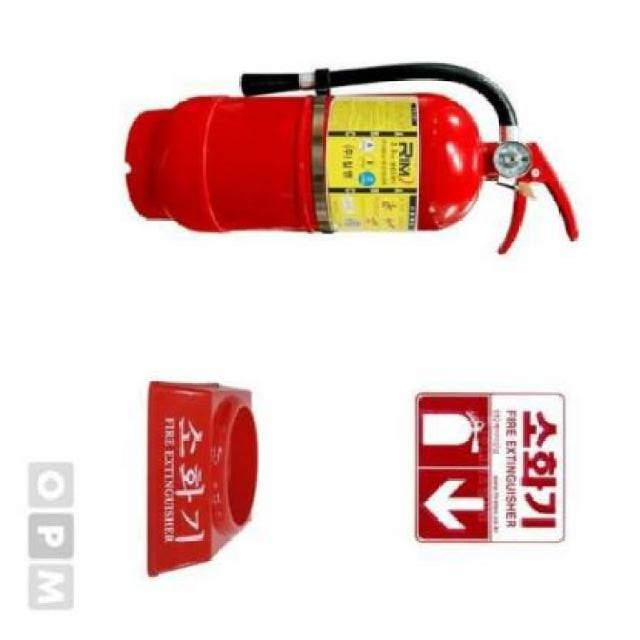fire extinguisher: (125, 62, 579, 255)
